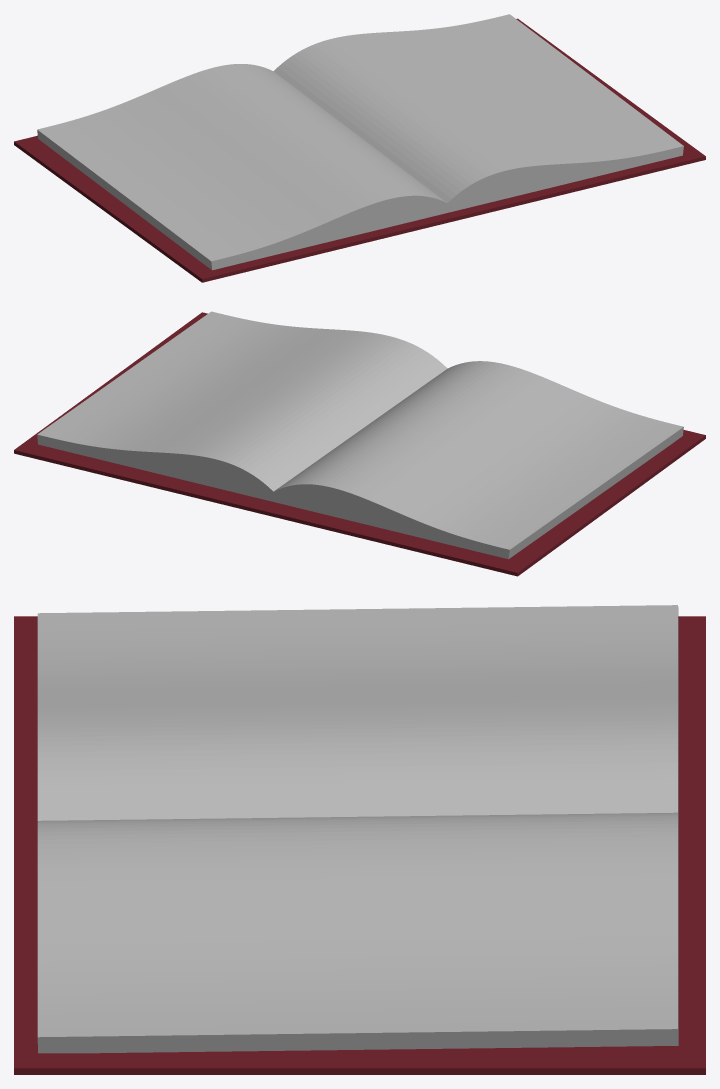
The model's file is open_book.glb.
The picture shows the model from 3 angles, top to bottom: view 1: azimuth 30°, elevation 25°; view 2: azimuth 150°, elevation 25°; view 3: azimuth 270°, elevation 25°; orthographic projection. The views are drawn at different scales.
Visible parts, largest first — view 1: NurbsPath, Plane; view 2: NurbsPath, Plane; view 3: NurbsPath, Plane.
Part boxes in pixels (x1,y1,x2,y2): NurbsPath: (37, 14, 683, 270); Plane: (14, 18, 705, 282); NurbsPath: (37, 311, 683, 559); Plane: (14, 312, 705, 576); NurbsPath: (37, 605, 678, 1053); Plane: (14, 616, 705, 1074).
Bounding box in the file's own units: 1.39 × 0.0952 × 0.8982.
